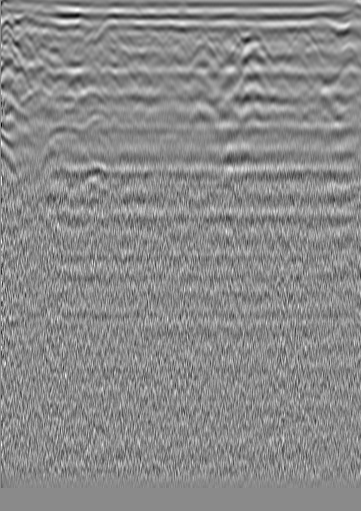가스: (79, 164, 109, 191)
상수: (317, 14, 337, 34)
오수: (36, 17, 56, 37)
우수: (192, 27, 212, 47)
